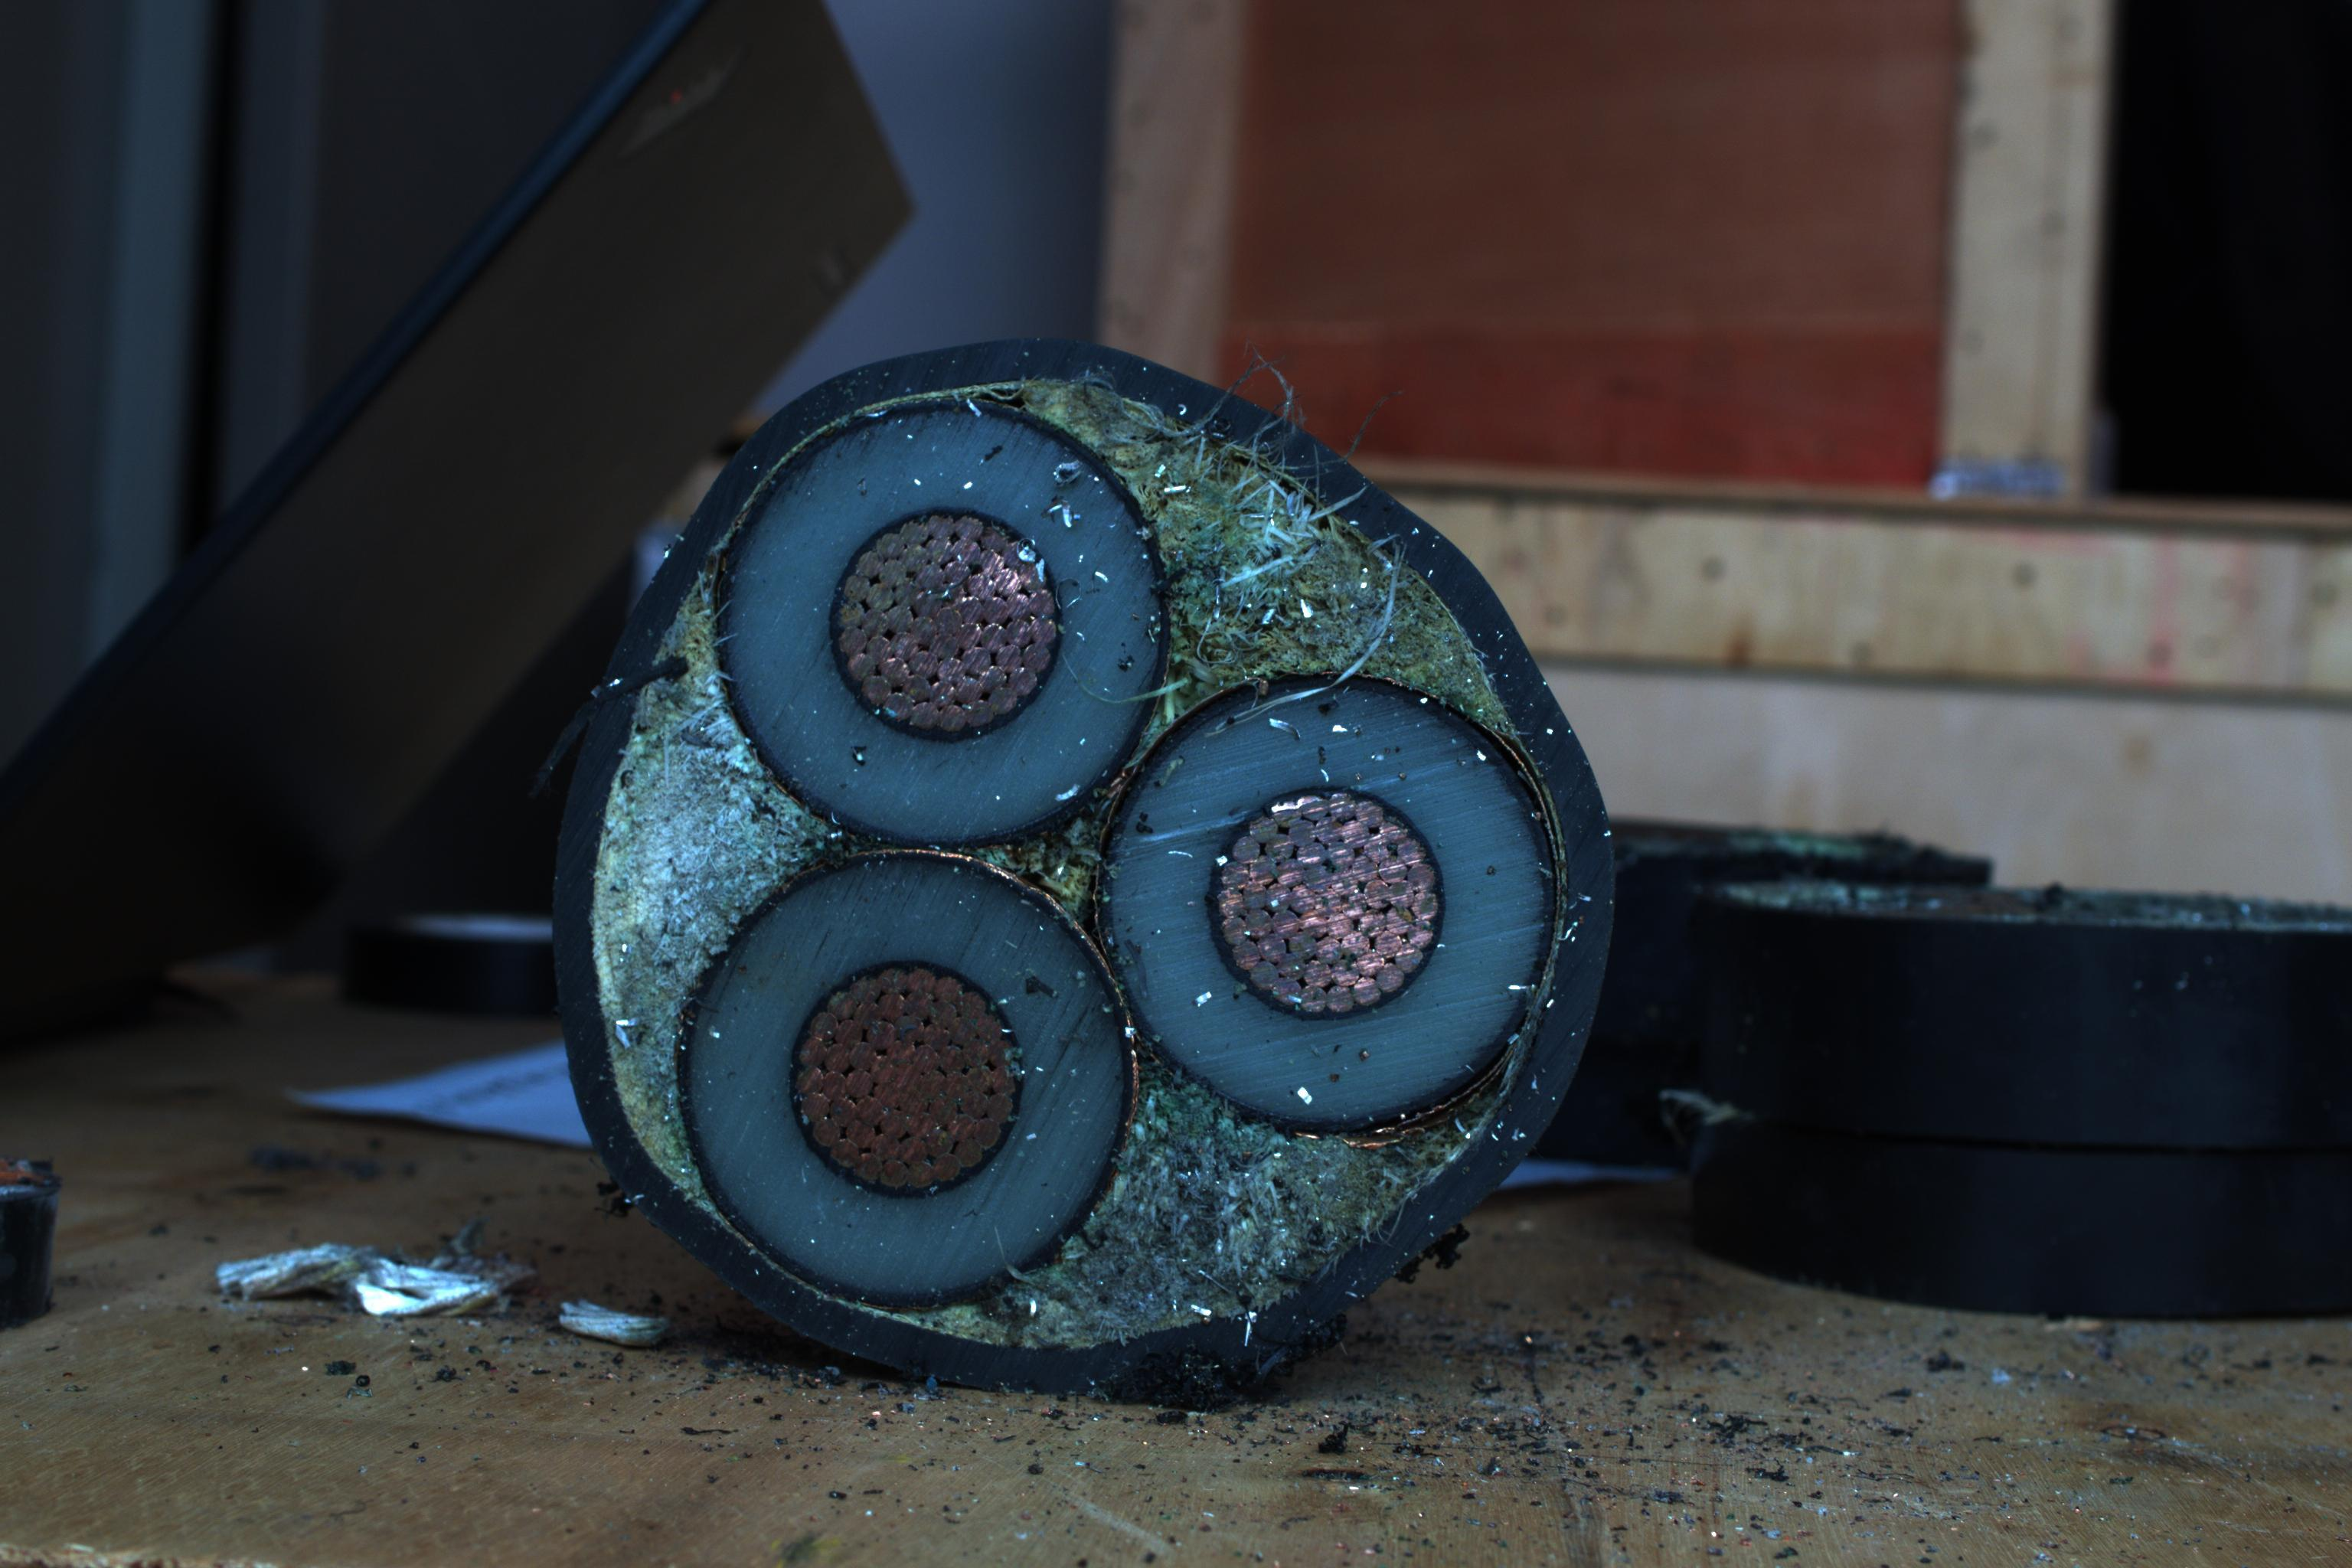ZA_YJV_26_35kV_3x400: (558, 331, 1626, 1389)
